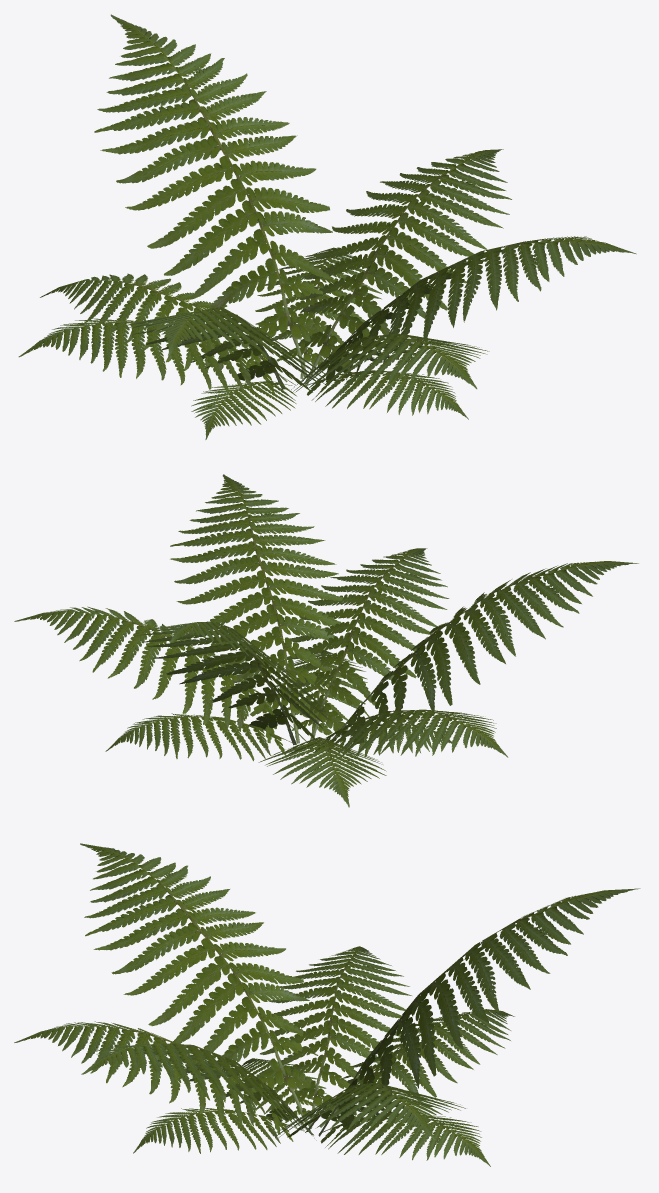
The model's file is scene-nomorph.glb.
3 views of the same model, one above another, from view 1: azimuth 30°, elevation 25°; view 2: azimuth 150°, elevation 25°; view 3: azimuth 270°, elevation 25° (orthographic). The views are drawn at different scales.
Parts seen in each view (by area): view 1: Tree_0; view 2: Tree_0; view 3: Tree_0.
Part boxes in pixels (x1=…): Tree_0: x1=18, y1=14, x2=636, y2=439; Tree_0: x1=14, y1=474, x2=638, y2=807; Tree_0: x1=14, y1=843, x2=640, y2=1166.
Size of the model in its own units: 217 by 93.44 by 226.
Materials: 1 (1 with a texture image).
